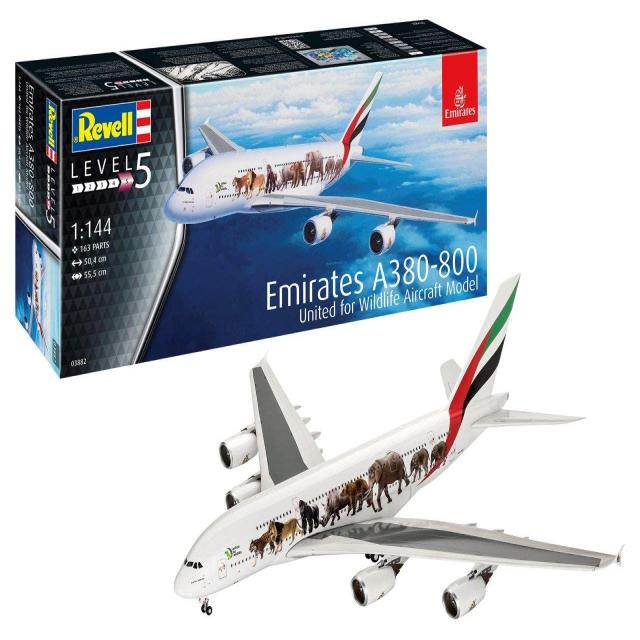A380: (176, 277, 620, 625), (157, 75, 481, 240)
